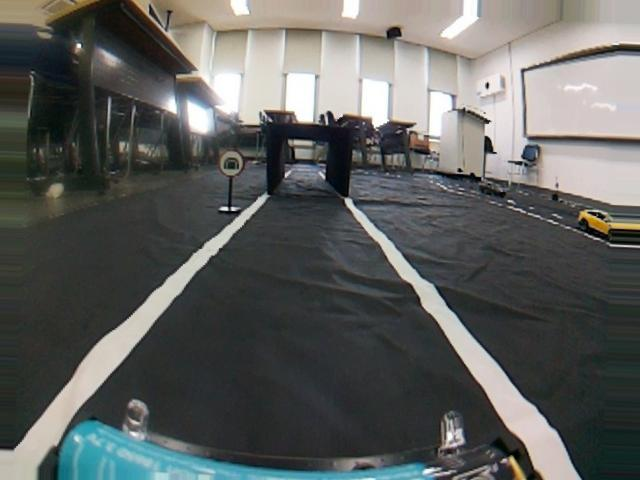sign_tunnel: (216, 147, 246, 179)
straight: (3, 212, 639, 480)
